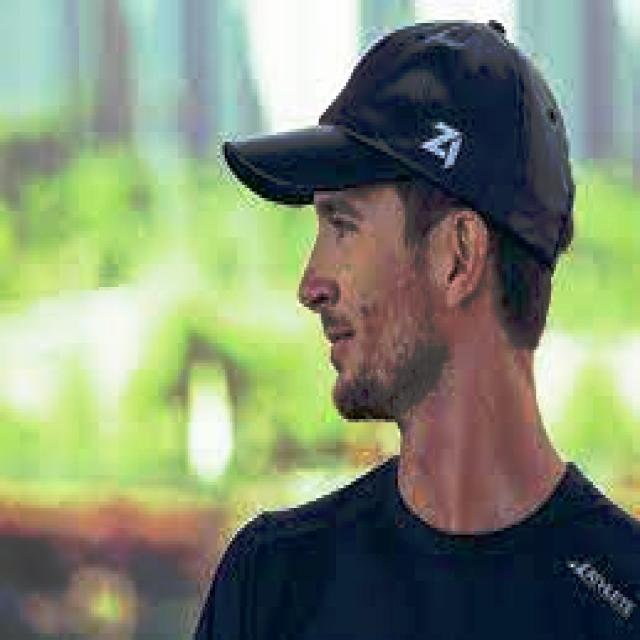TOPI: (213, 0, 615, 284)
